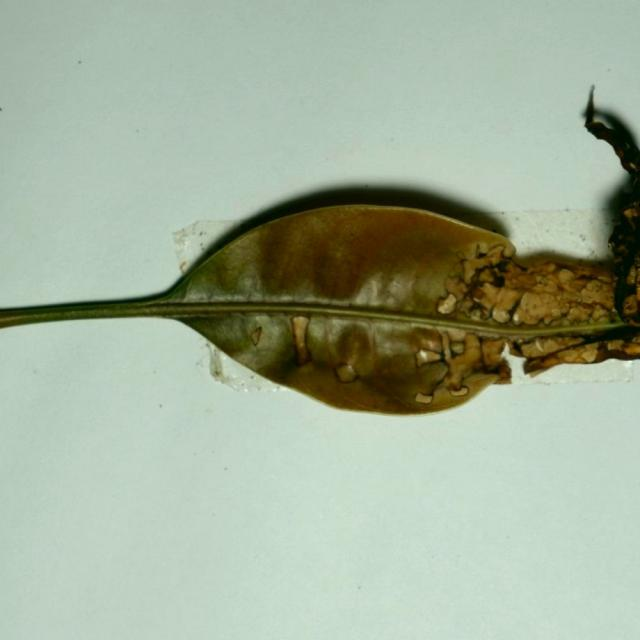Anthracnose: (415, 288, 498, 326), (511, 282, 560, 327), (445, 334, 486, 383), (578, 280, 614, 307), (505, 270, 546, 290), (483, 244, 507, 262), (622, 205, 639, 227), (622, 294, 638, 316), (580, 346, 599, 362), (478, 268, 497, 284), (557, 269, 576, 284), (414, 392, 434, 404), (540, 262, 558, 274), (595, 275, 613, 285), (476, 241, 489, 254)
Mango: (0, 100, 639, 418)
